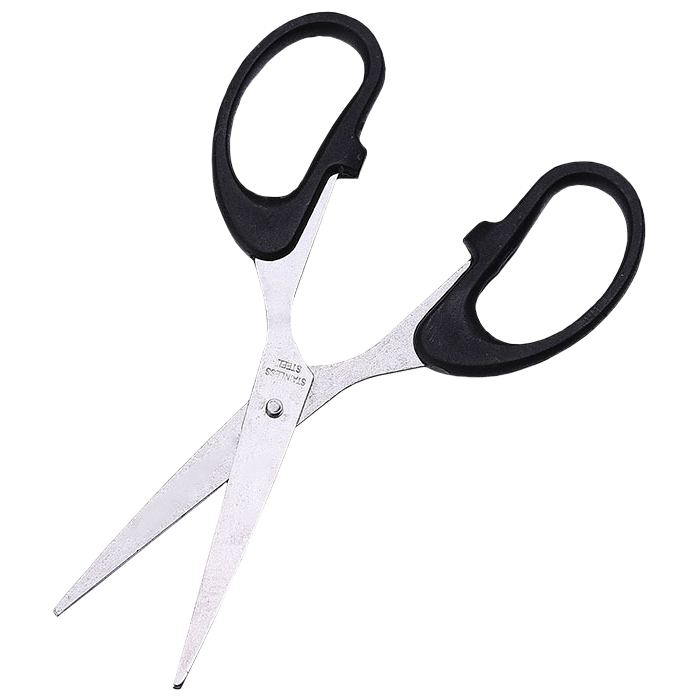scissors: (44, 8, 648, 700)
